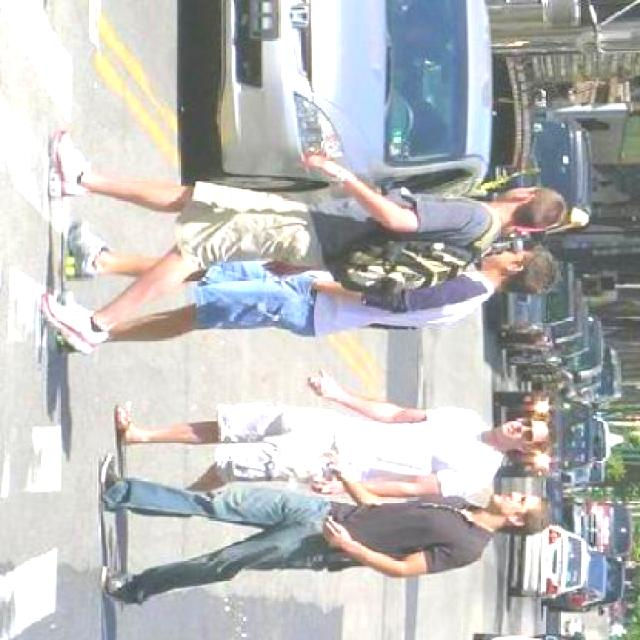Person: (43, 120, 579, 352), (70, 460, 554, 606), (56, 218, 564, 356), (90, 365, 566, 503)
